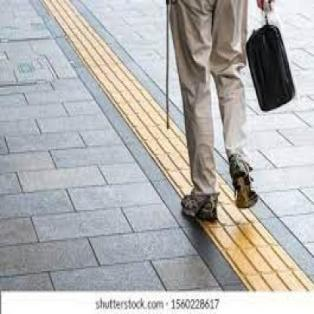Podoctatil: (21, 0, 313, 292)
